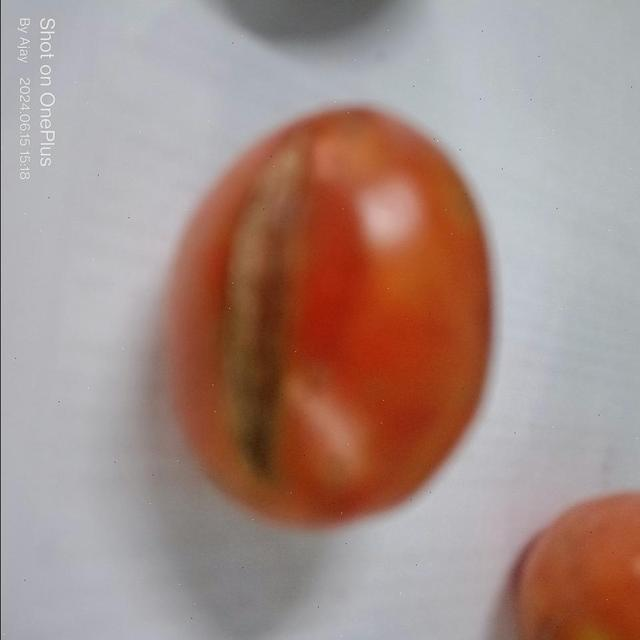Cracking Fruit: (135, 50, 293, 136)
